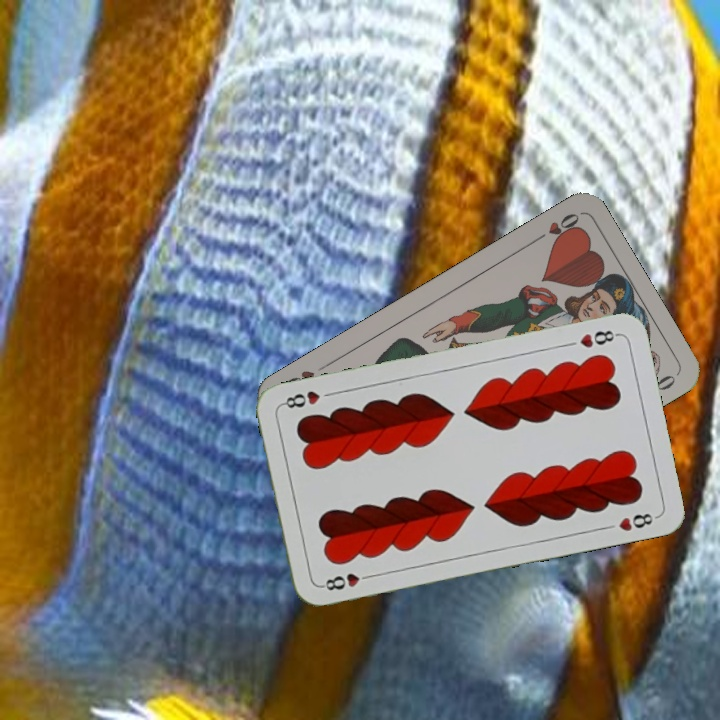H8: (317, 569, 376, 593), (575, 326, 621, 351)
HO: (528, 209, 583, 247)
